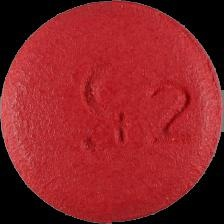43547-336: (0, 0, 224, 224)
